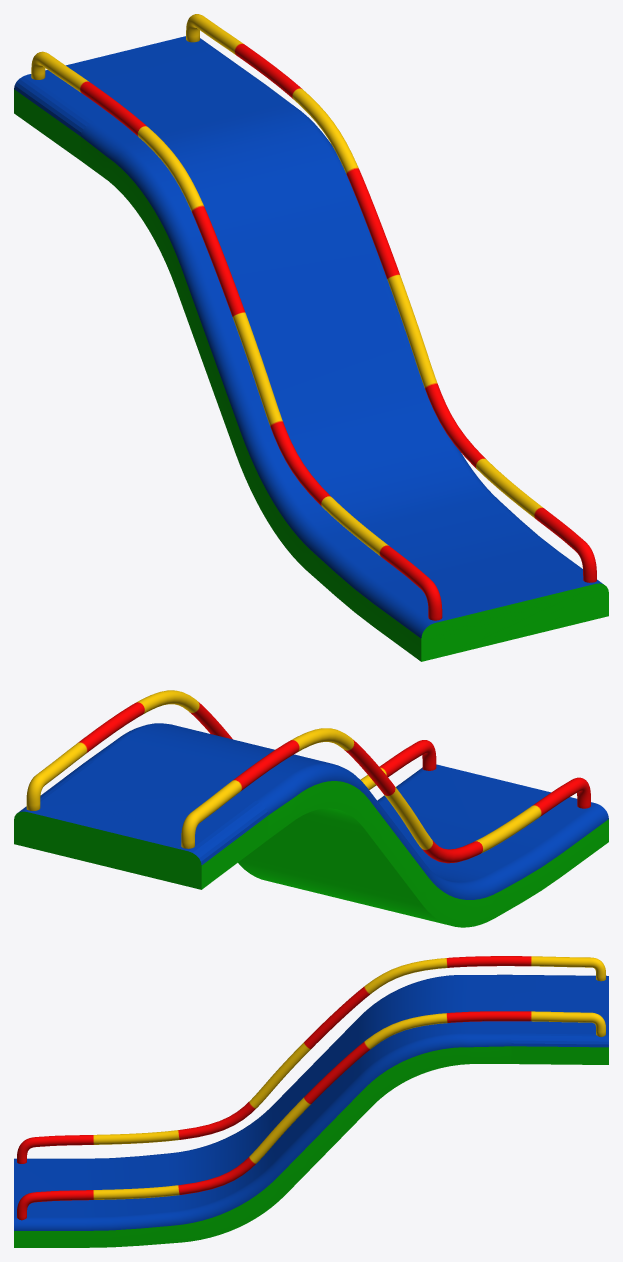
3 renders of one model, top to bottom at view 1: azimuth 30°, elevation 25°; view 2: azimuth 150°, elevation 25°; view 3: azimuth 270°, elevation 25°, orthographic. The views are drawn at different scales.
Visible parts, largest first — view 1: plank9, pipe16, piper15; view 2: plank9, pipe16, piper15; view 3: plank9, piper15, pipe16.
Part boxes in pixels (box(x1,y1,x2,y2)): plank9: box(14, 36, 608, 661); pipe16: box(31, 51, 442, 620); piper15: box(186, 14, 596, 582); plank9: box(14, 723, 608, 927); pipe16: box(181, 728, 590, 863); piper15: box(26, 690, 436, 810); plank9: box(14, 974, 608, 1247); piper15: box(17, 1011, 605, 1220); pipe16: box(17, 956, 605, 1163).
Bounding box in the file's own units: 5 × 8.07 × 18.8.
3 materials, 1 textured.
